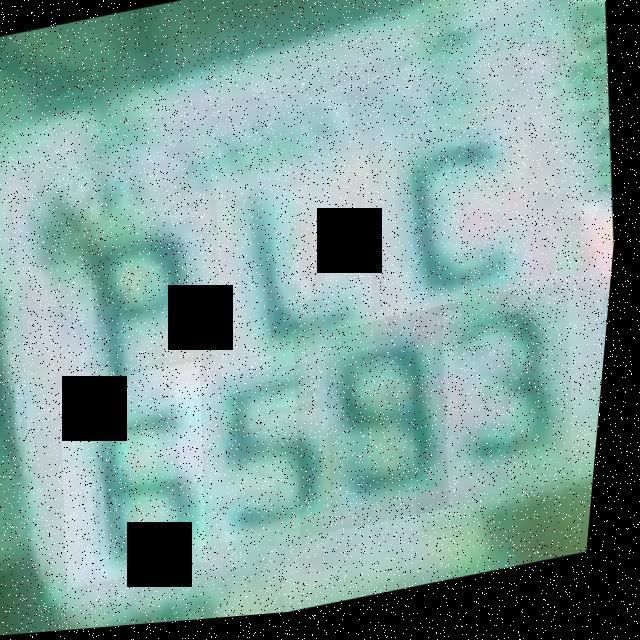3: (402, 291, 597, 524)
5: (172, 347, 354, 555)
6: (53, 362, 233, 592)
9: (285, 314, 473, 546)
C: (370, 124, 549, 331)
J: (205, 153, 396, 385)
P: (48, 173, 222, 399)
